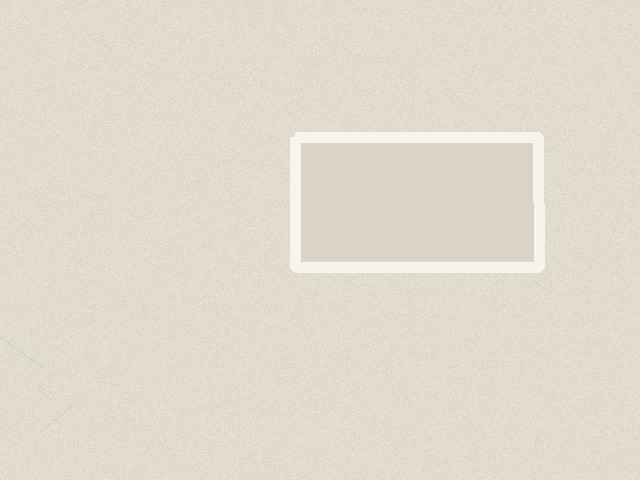parking_area: (295, 137, 539, 267)
